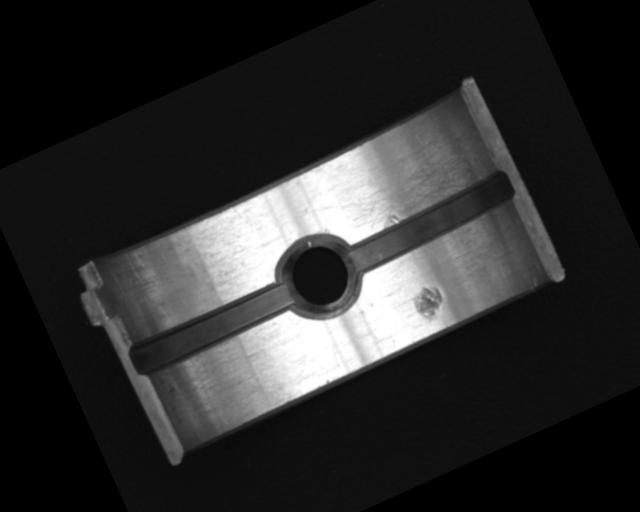bruise: (408, 280, 450, 326)
gap: (337, 165, 520, 279), (124, 276, 299, 379)
hole: (266, 222, 370, 332)
scratch: (310, 108, 488, 248)
